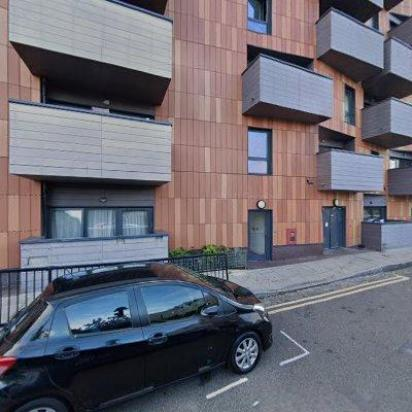stationary-car-onstreet: (0, 260, 274, 412)
